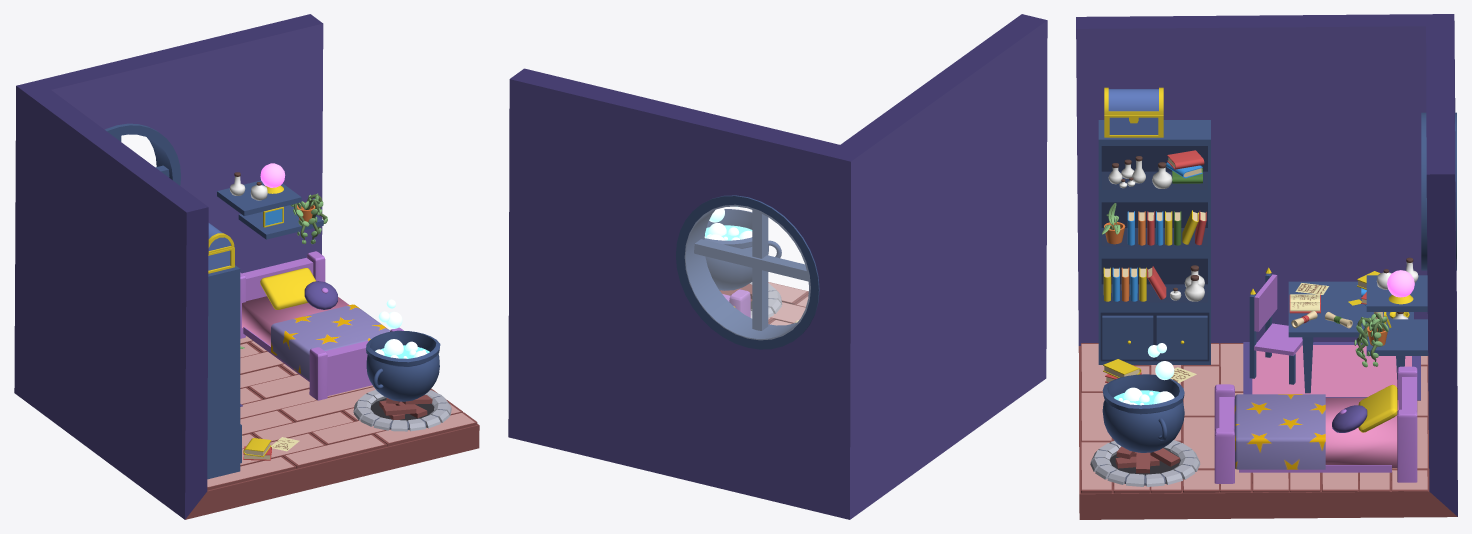
Rendered from roomtutorial.gltf.
The picture shows the model from 3 angles, left to right: view 1: azimuth 30°, elevation 25°; view 2: azimuth 150°, elevation 25°; view 3: azimuth 270°, elevation 25°; orthographic projection. The views are drawn at different scales.
Parts seen in each view (by area): view 1: Cube, Cube.044, Cube.011, Cube.002, Roundcube.004, Cylinder.039, Cube.003, Cube.001, Cube.010, Cube.032, Cylinder.047, Cube.031 (+6 smaller); view 2: Cube, Cylinder, Cylinder.047, Roundcube.004, Cube.038, Cube.037, Cube.044, Sphere.002; view 3: Cube, Cube.011, Cube.044, Cube.002, Cube.030, Cylinder.013, Roundcube.004, Cube.001, Cube.012, Cube.035, Cylinder.039, Cylinder.009 (+19 smaller).
Boxes of the visible parts, x1=… form: Cube: x1=14, y1=14, x2=479, y2=519; Cube.044: x1=207, y1=336, x2=477, y2=490; Cube.011: x1=207, y1=265, x2=241, y2=479; Cube.002: x1=271, y1=304, x2=389, y2=379; Roundcube.004: x1=366, y1=330, x2=440, y2=401; Cylinder.039: x1=353, y1=389, x2=451, y2=431; Cube.003: x1=325, y1=340, x2=372, y2=395; Cube.001: x1=242, y1=296, x2=349, y2=345; Cube.010: x1=260, y1=268, x2=315, y2=309; Cube.032: x1=217, y1=180, x2=301, y2=215; Cylinder.047: x1=105, y1=123, x2=180, y2=185; Cube.031: x1=238, y1=204, x2=323, y2=239; Cube: x1=508, y1=14, x2=1047, y2=519; Cylinder: x1=685, y1=205, x2=810, y2=339; Cylinder.047: x1=675, y1=195, x2=819, y2=349; Roundcube.004: x1=704, y1=209, x2=768, y2=290; Cube.038: x1=694, y1=239, x2=808, y2=281; Cube.037: x1=752, y1=210, x2=768, y2=330; Cube.044: x1=768, y1=282, x2=808, y2=325; Sphere.002: x1=704, y1=206, x2=752, y2=240; Cube: x1=1076, y1=14, x2=1457, y2=519; Cube.011: x1=1098, y1=120, x2=1210, y2=364; Cube.044: x1=1081, y1=343, x2=1428, y2=493; Cube.002: x1=1234, y1=394, x2=1325, y2=469; Cube.030: x1=1243, y1=342, x2=1420, y2=400; Cylinder.013: x1=1103, y1=150, x2=1206, y2=301; Roundcube.004: x1=1102, y1=374, x2=1184, y2=452; Cube.001: x1=1325, y1=397, x2=1398, y2=467; Cube.012: x1=1288, y1=281, x2=1413, y2=337; Cube.035: x1=1104, y1=87, x2=1163, y2=137; Cylinder.039: x1=1090, y1=440, x2=1200, y2=486; Cylinder.009: x1=1108, y1=156, x2=1418, y2=319.
Size of the model in its own units: 2 by 2.02 by 2.02.
35 materials, 2 textured.
